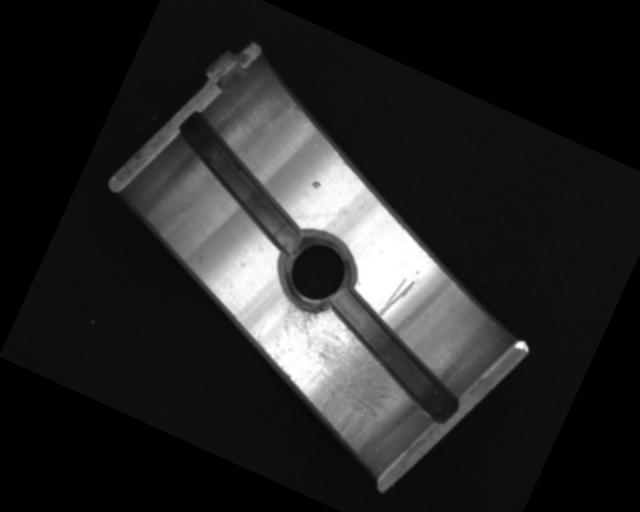bruise: (308, 179, 322, 192)
gap: (152, 110, 334, 258), (306, 285, 484, 427)
hole: (266, 223, 368, 323)
nick: (377, 272, 416, 325)
scratch: (235, 292, 413, 458)
